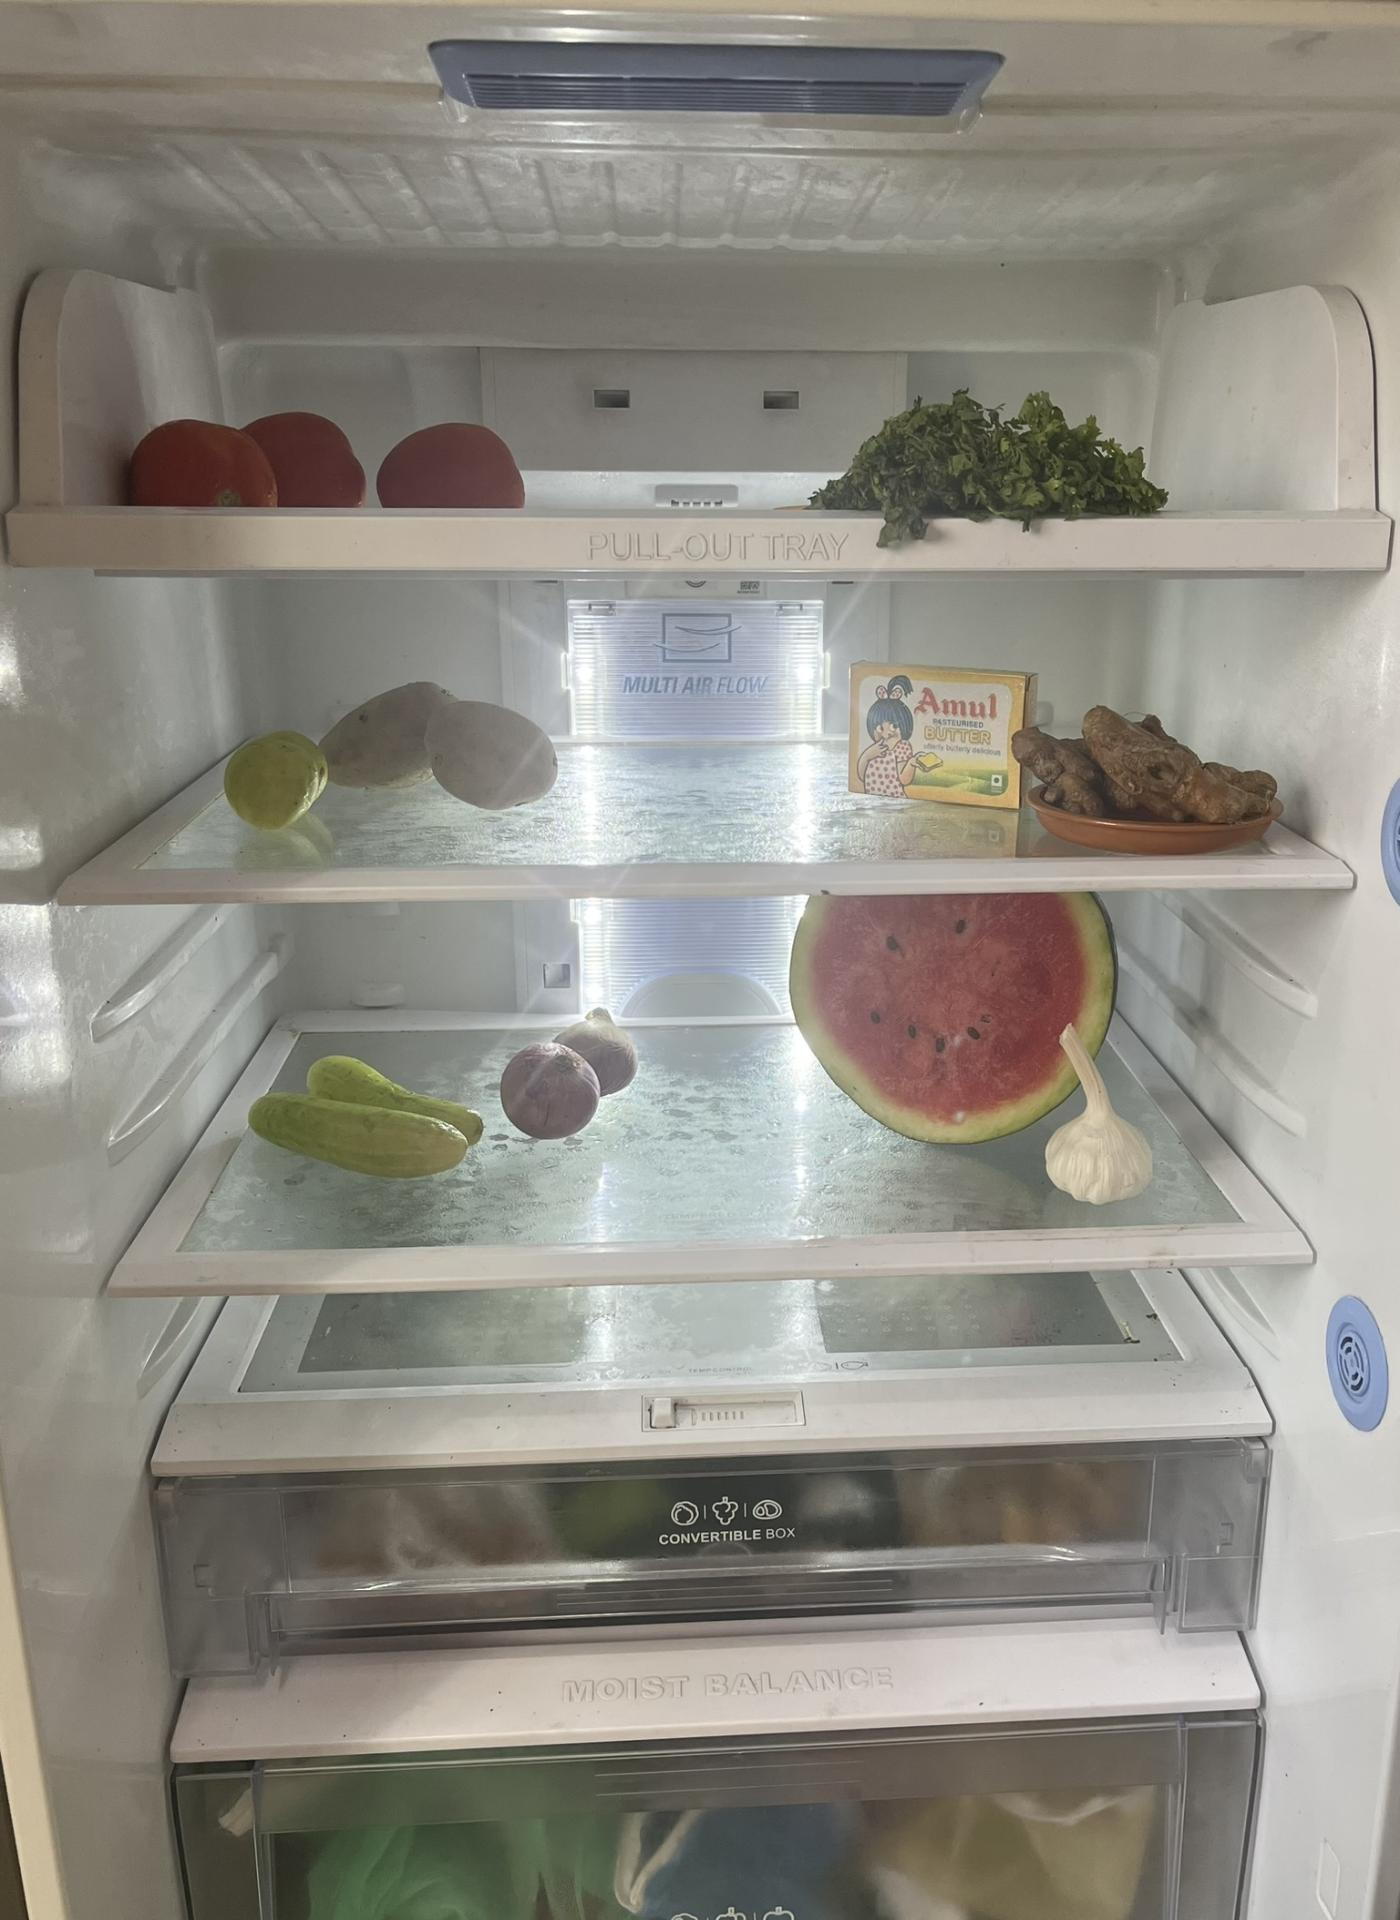butter: (841, 657, 1024, 793)
coriander: (808, 382, 1170, 514)
cucumber: (256, 1061, 479, 1184)
garlic: (1050, 1005, 1150, 1212)
ginger: (1032, 695, 1282, 839)
lemon: (219, 733, 338, 827)
onion: (498, 996, 632, 1137)
potato: (338, 672, 570, 805)
tomato: (115, 400, 529, 505)
watermelon: (790, 902, 1115, 1146)
